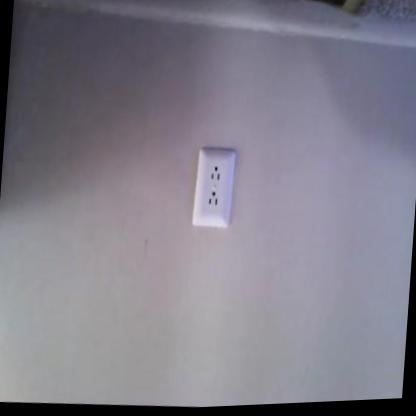OUTLET: (191, 142, 239, 234)
